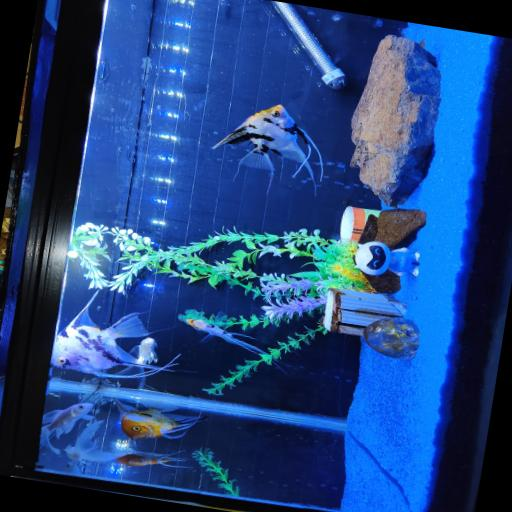Fish: (52, 290, 176, 377), (213, 104, 323, 188), (115, 399, 206, 439), (186, 318, 267, 353), (65, 420, 134, 461), (41, 402, 93, 453), (116, 451, 194, 467), (130, 337, 158, 363), (66, 460, 83, 475)
